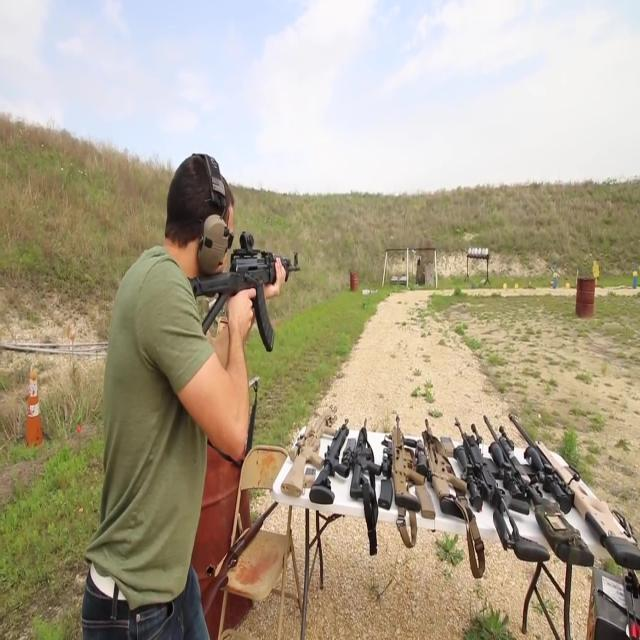Weapon: (270, 376, 640, 578), (156, 203, 325, 362), (169, 464, 293, 623)
